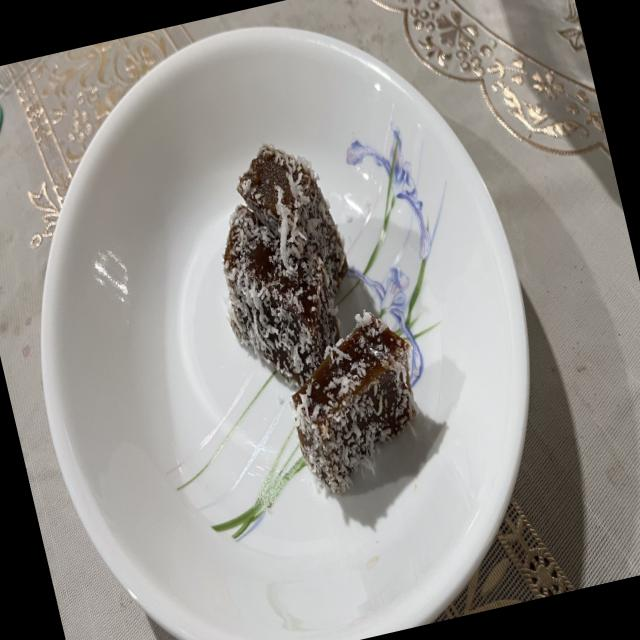kaswi: (221, 204, 340, 390), (235, 144, 348, 293)
